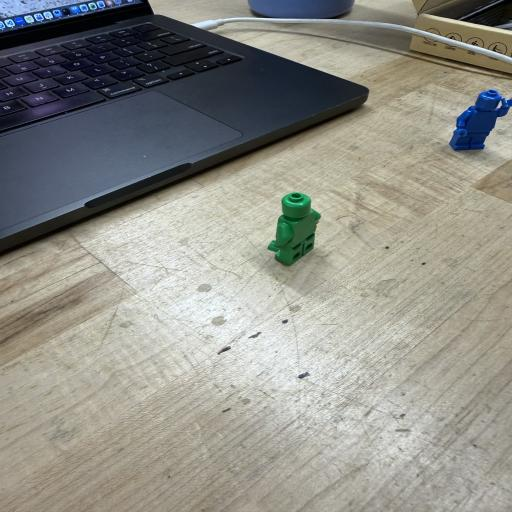blue-minifig: (450, 90, 509, 149)
green-minifig: (268, 192, 321, 265)
